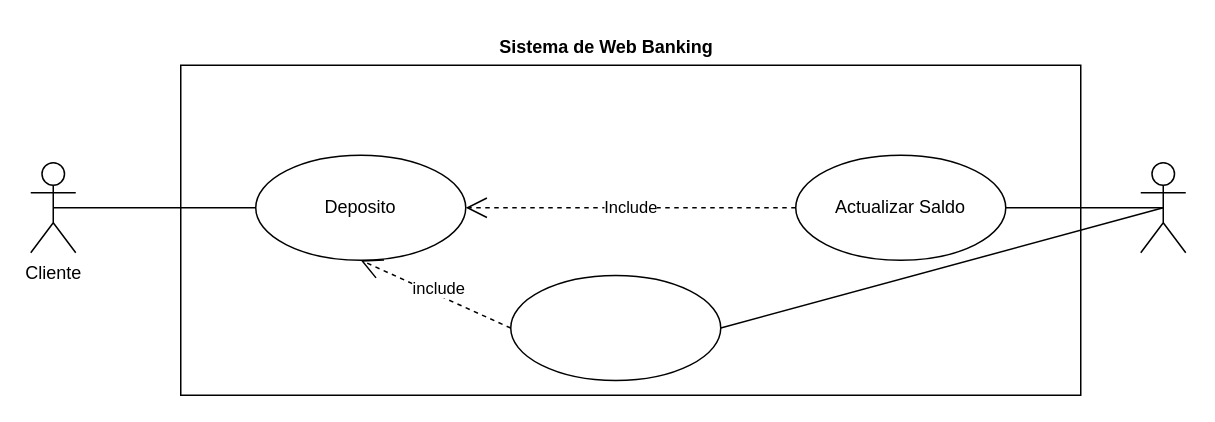
Some shapes in this 1215 by 422 pixel diagram are drawn without their labels. Each missing label, with the centre of its shape:
Banco: point (1162, 207)
Validar Pin de Cuenta: point (615, 327)
